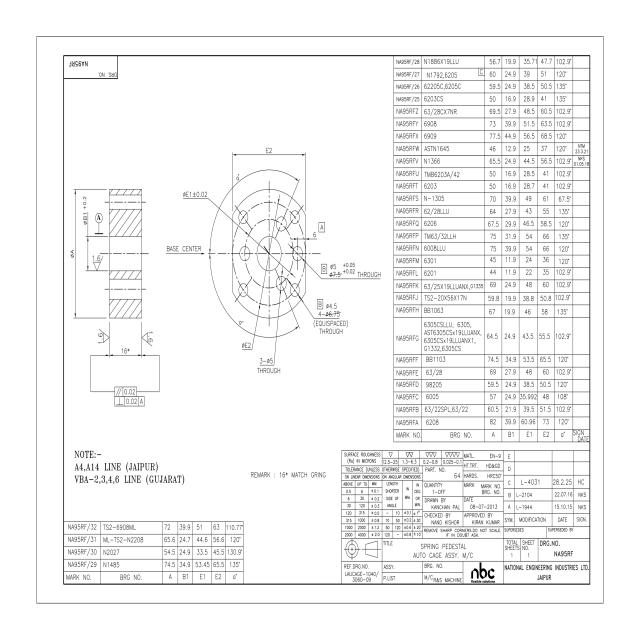dimension: (312, 301, 348, 336), (69, 187, 77, 322), (329, 261, 381, 279), (231, 146, 307, 158), (105, 348, 146, 360), (257, 357, 281, 374), (182, 190, 208, 200), (83, 194, 88, 226), (146, 330, 154, 344), (234, 171, 243, 183), (92, 254, 105, 262), (96, 332, 104, 345), (237, 318, 245, 329), (241, 341, 252, 349), (312, 230, 318, 238)
